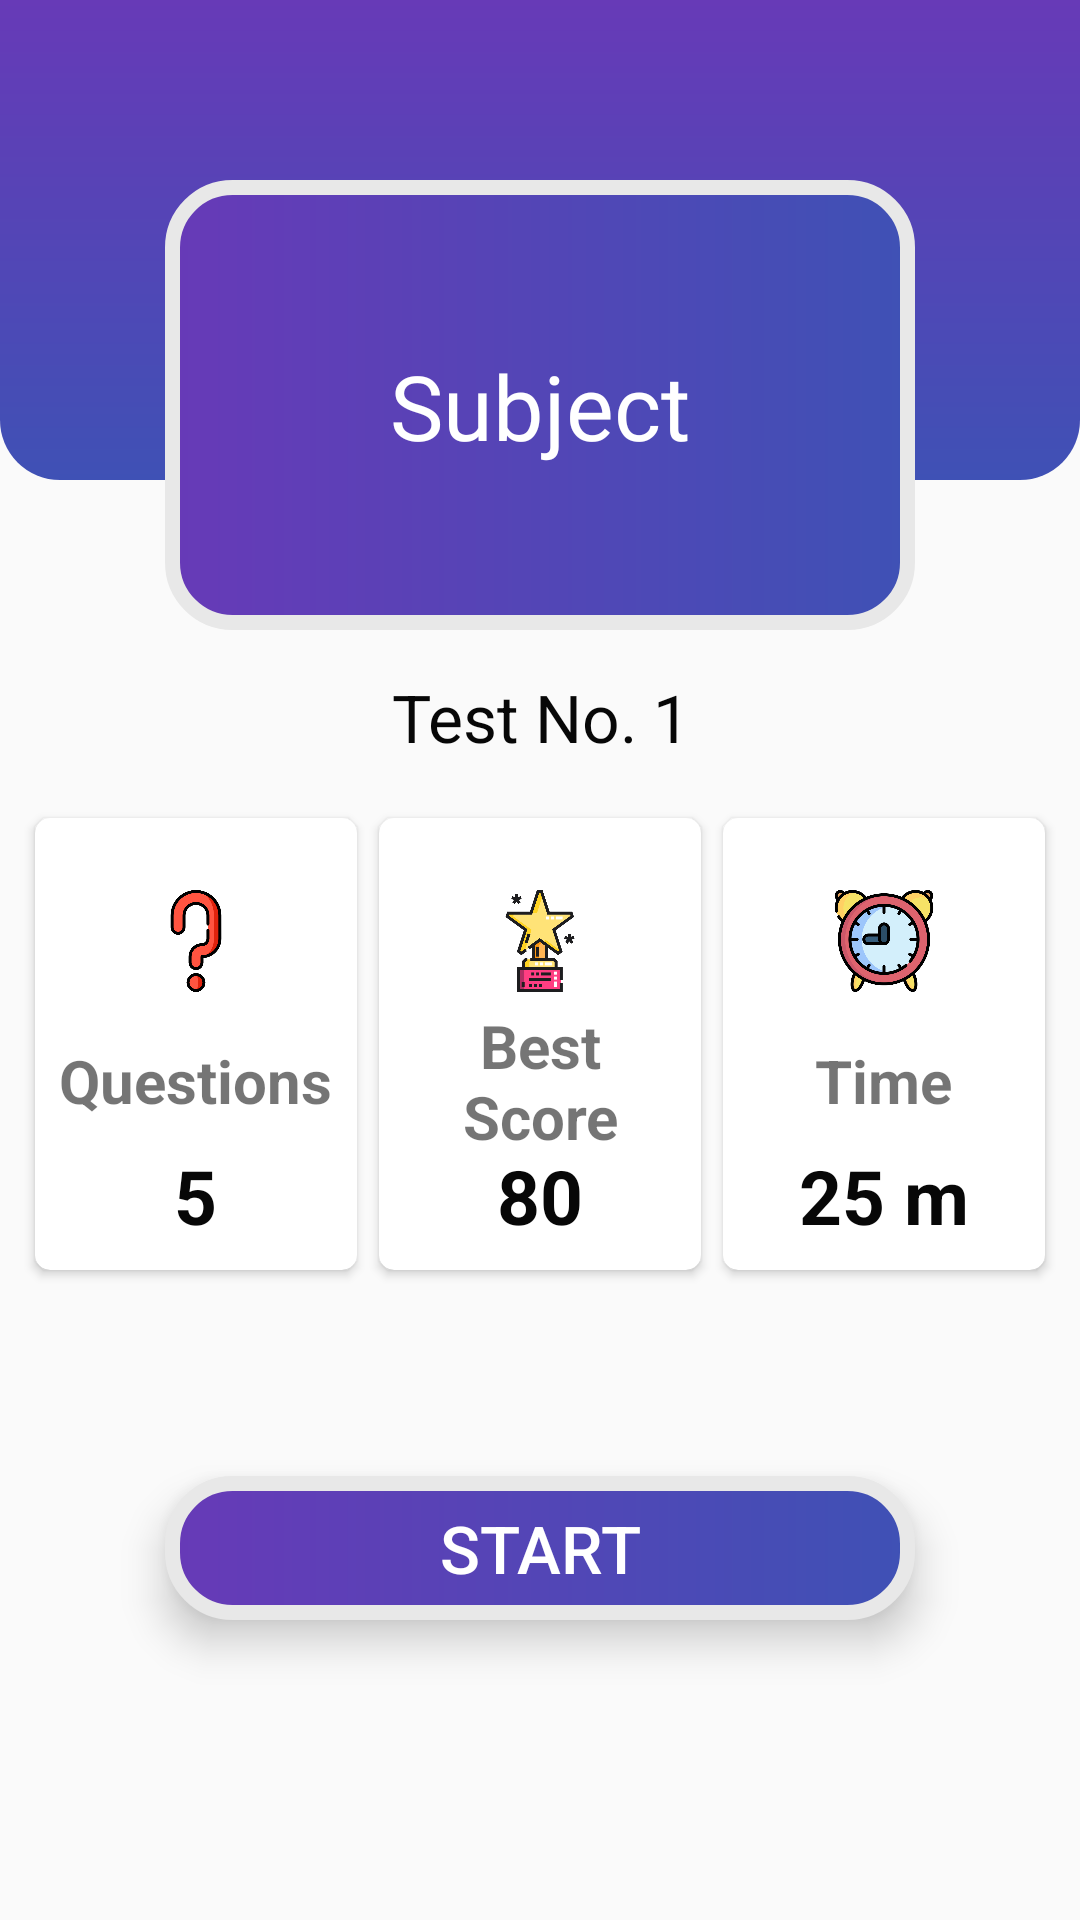

Screen size 1080 x 1920. Icon name, then its box in pixels as BBox(x1, y1, x2, y2):
award: BBox(505, 890, 575, 992)
clock: BBox(835, 890, 933, 992)
